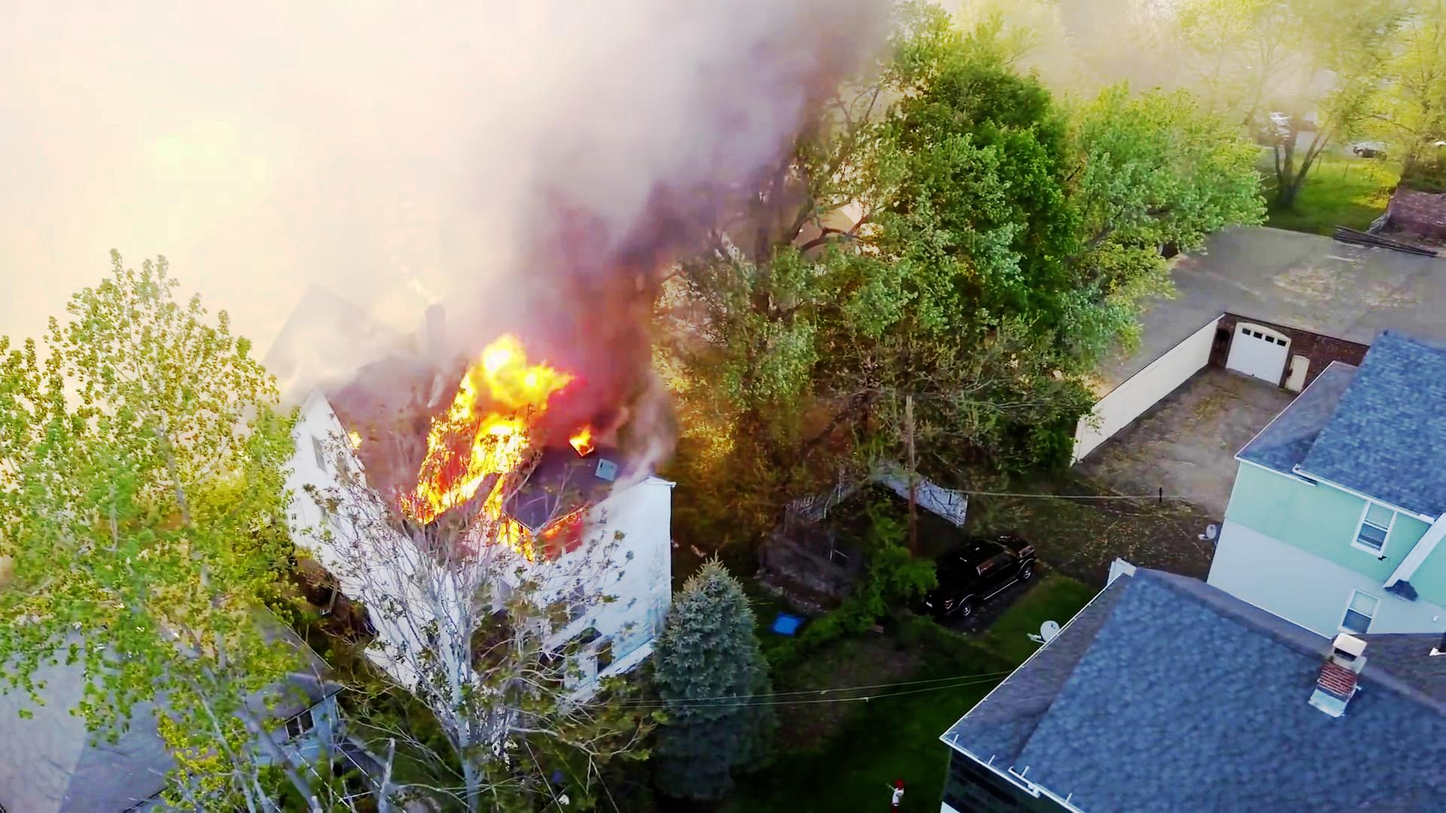fire: (414, 343, 560, 514)
smoke: (474, 0, 724, 268)
